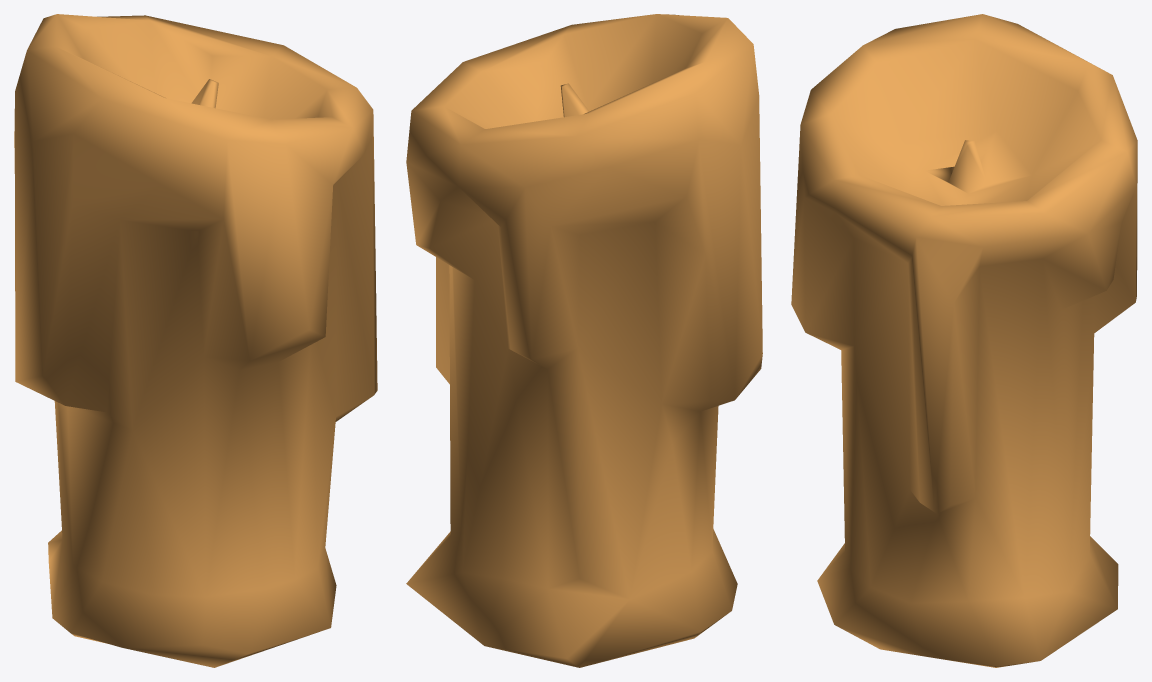
The picture shows the model from 3 angles, left to right: view 1: azimuth 30°, elevation 25°; view 2: azimuth 150°, elevation 25°; view 3: azimuth 270°, elevation 25°; orthographic projection. The views are drawn at different scales.
Visible parts, largest first — view 1: Cylinder.001; view 2: Cylinder.001; view 3: Cylinder.001.
Part boxes in pixels (x1,y1,x2,y2): Cylinder.001: [14, 14, 377, 667]; Cylinder.001: [406, 14, 762, 667]; Cylinder.001: [791, 14, 1137, 667].
Size of the model in its own units: 85.96 by 147 by 84.81.
